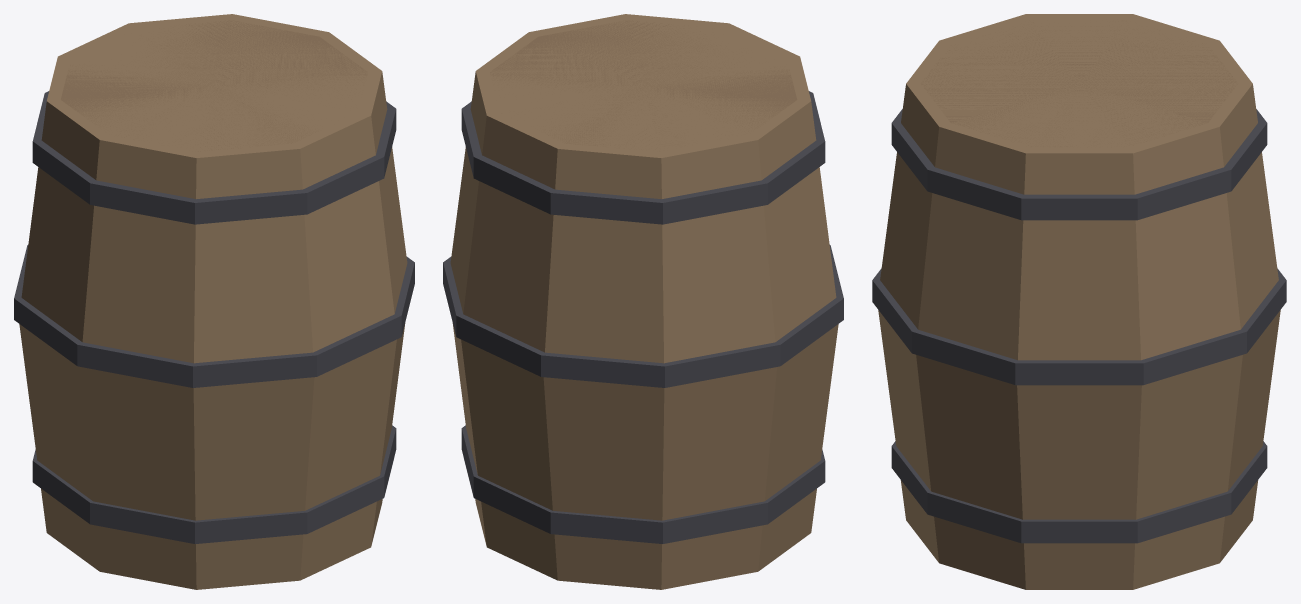
File: barrel.glb
3 renders of one model, left to right at view 1: azimuth 30°, elevation 25°; view 2: azimuth 150°, elevation 25°; view 3: azimuth 270°, elevation 25°, orthographic.
Visible parts, largest first — view 1: barrel; view 2: barrel; view 3: barrel.
Boxes of the visible parts, <box> form: barrel: <box>14,14,414,589</box>; barrel: <box>443,14,843,589</box>; barrel: <box>872,14,1286,589</box>.
Size of the model in its own units: 0.8179 by 1 by 0.86.
